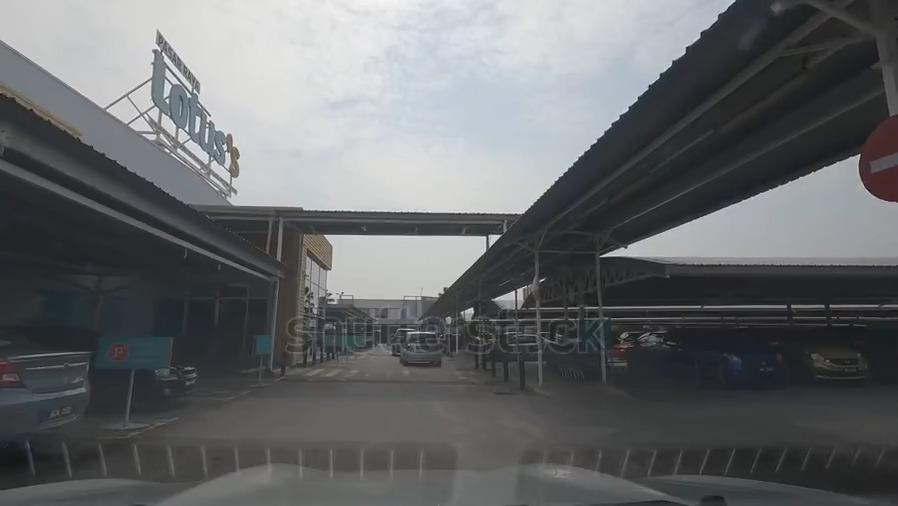car: (15, 317, 199, 413), (0, 320, 92, 442), (677, 323, 784, 390), (767, 325, 869, 387), (486, 332, 559, 357), (404, 330, 442, 370), (390, 324, 416, 355), (638, 328, 665, 348), (611, 338, 634, 359)
pedestrian: (288, 360, 503, 390)
